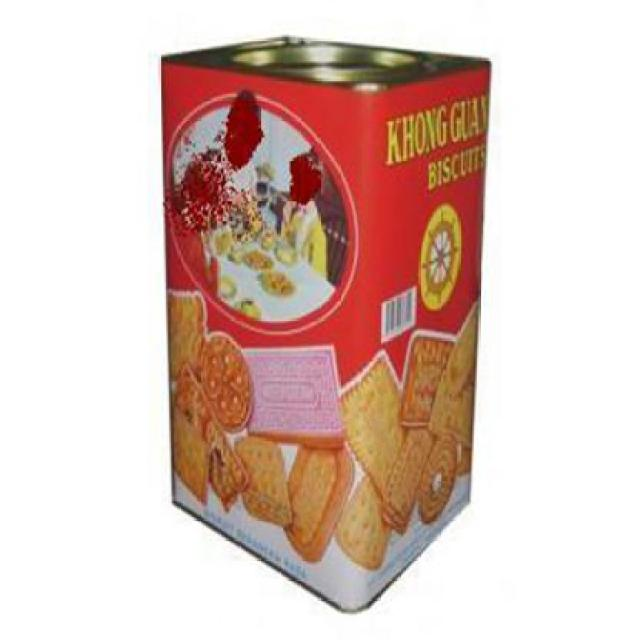Metal: (162, 36, 493, 616)
